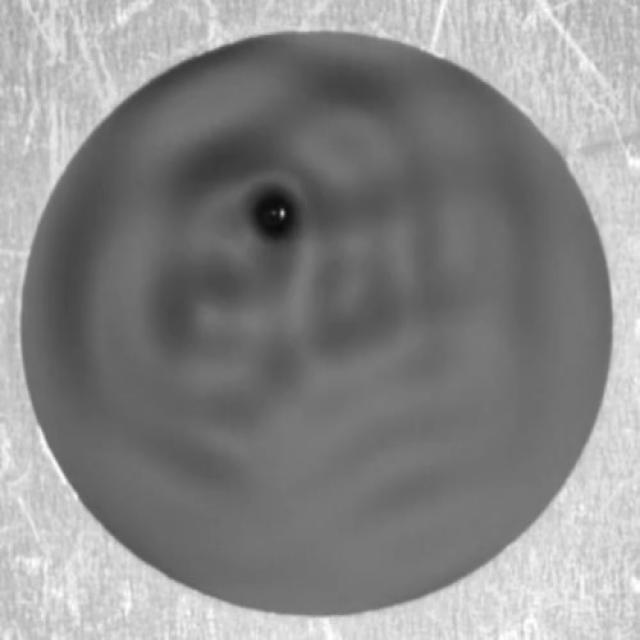droplet: (258, 193, 294, 238)
